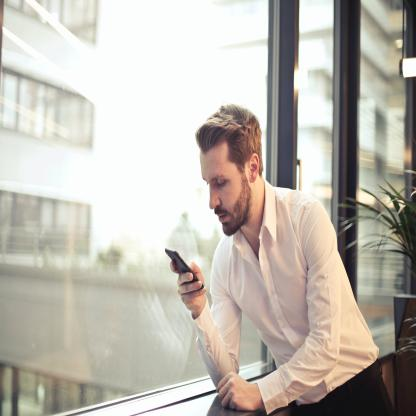Eye: (216, 176, 228, 186)
Mouth: (215, 211, 227, 223)
Nose: (208, 183, 222, 210)
